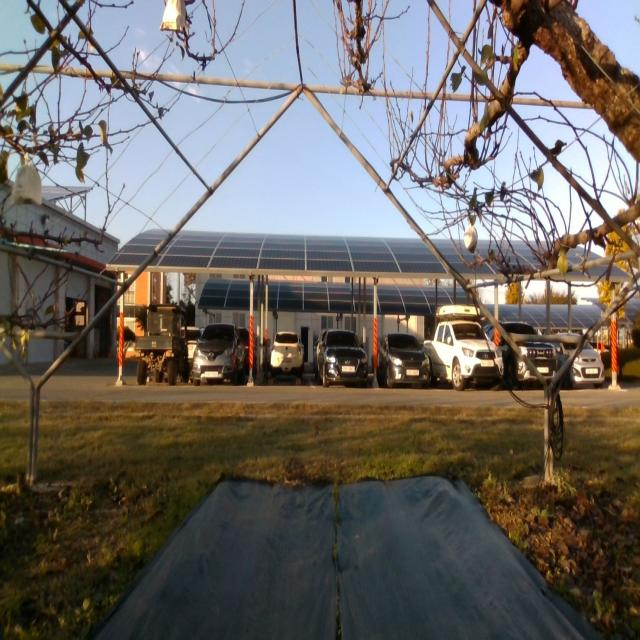pearbags: (10, 163, 42, 205), (159, 0, 185, 32), (463, 224, 477, 253)
